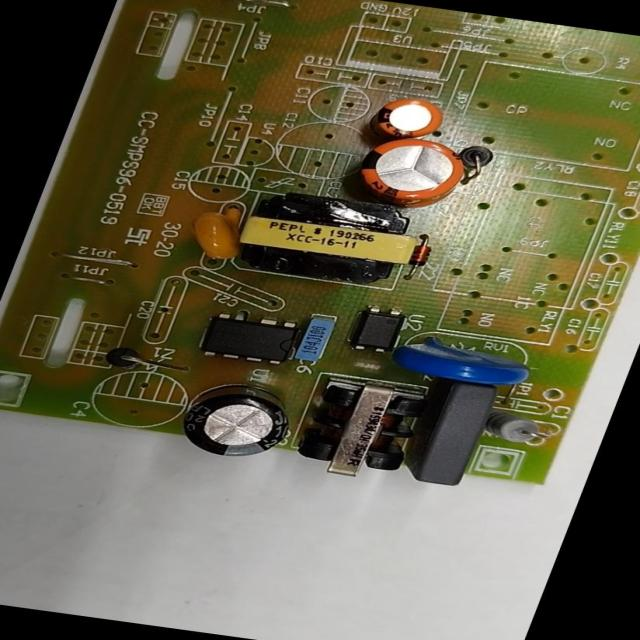Cap1: (347, 133, 470, 209)
Cap2: (372, 94, 449, 142)
Cap3: (171, 378, 301, 463)
MOSFET: (198, 311, 302, 366)
Mov: (386, 334, 537, 390)
Resistor: (478, 407, 552, 446)
Transformer: (227, 185, 427, 289), (294, 380, 425, 480)
